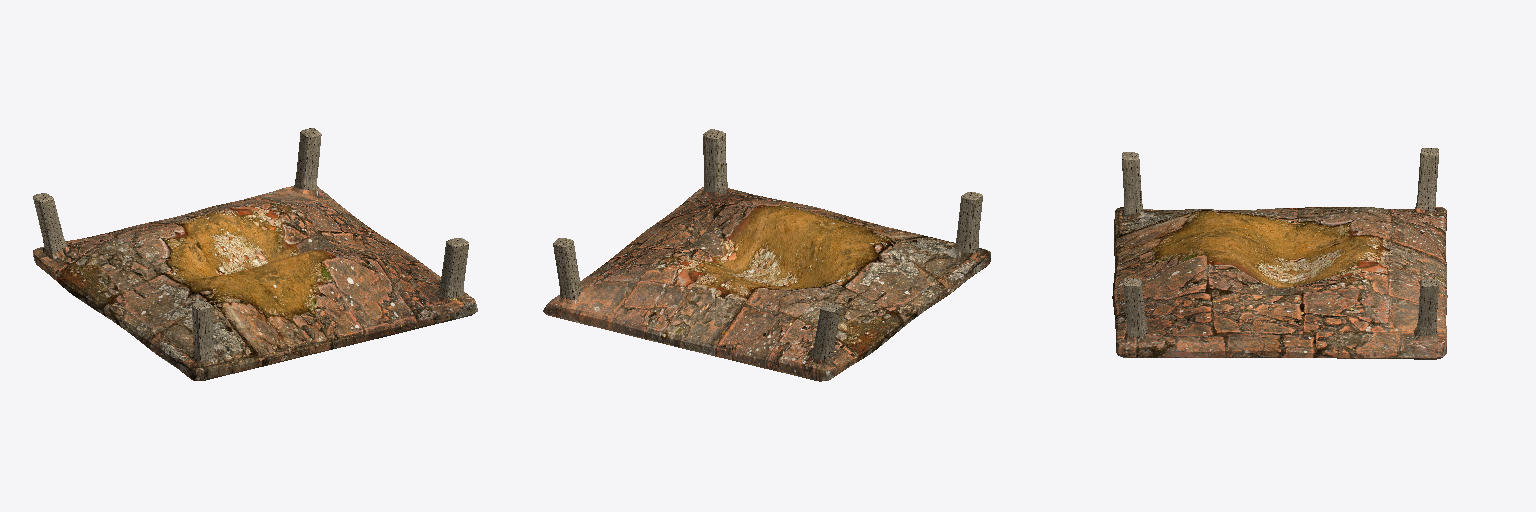
The picture shows the model from 3 angles: view 1: azimuth 30°, elevation 25°; view 2: azimuth 150°, elevation 25°; view 3: azimuth 270°, elevation 25°; orthographic projection.
Visible parts, largest first — view 1: Cube; view 2: Cube; view 3: Cube.
Part boxes in pixels (x1,y1,x2,y2): Cube: (33, 128, 477, 380); Cube: (543, 129, 990, 381); Cube: (1112, 148, 1447, 359).
Bounding box in the file's own units: 9.51 × 2.39 × 9.5.
1 materials, 1 textured.